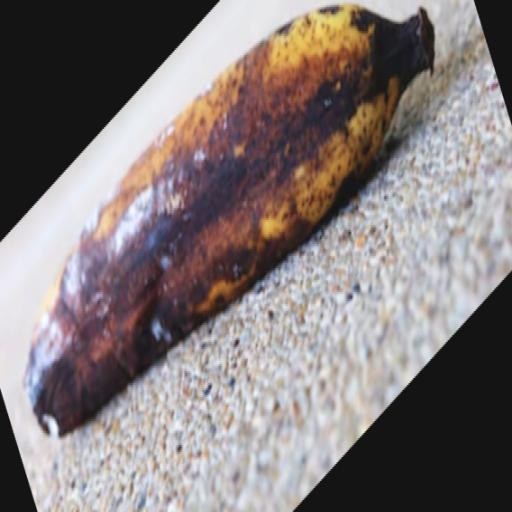banana-overripe: (10, 0, 453, 464)
